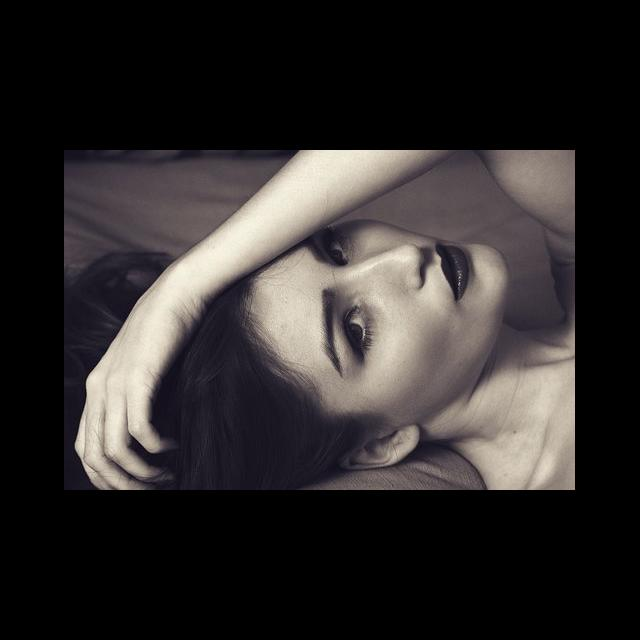female: (69, 171, 559, 456)
